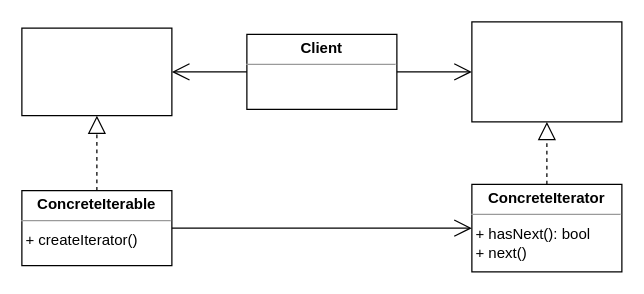
Image size: 644x294. Some labels were removed from this diagram. The shapes that lost their labels are listed below. From the top down, each one's centre as x and y in pixels, then its label:
the point at 96,71: <<Interface>> Iterable + createIterator()
the point at 546,71: <<Interface>> Iterator + hasNext(): bool + next()
